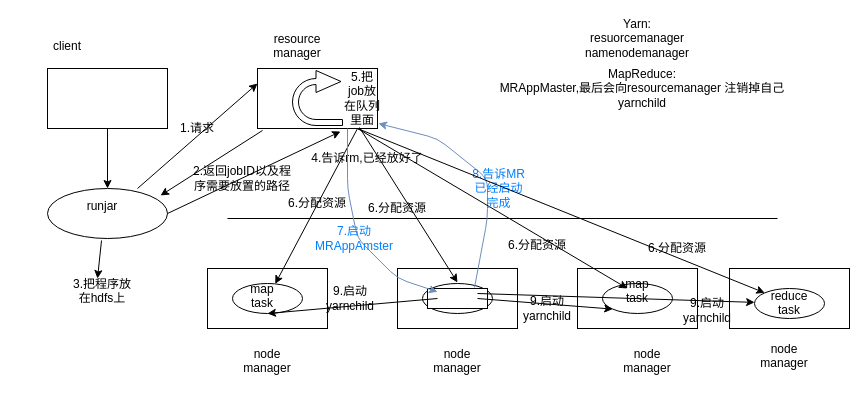
Some shapes in this 867 by 407 pixel diagram are drawn without their labels. The box of each missing label's shape, as (x1, y1, x2, y2) in pixels:
MRAppMaster: (426, 288, 488, 308)
python3 xx.py -r hadoop file -o /output/: (46, 68, 168, 128)
